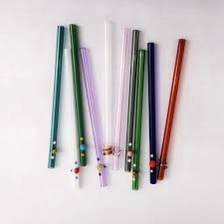drinking_straw: (75, 43, 110, 191), (154, 37, 187, 184), (41, 23, 68, 173), (128, 47, 150, 192)
